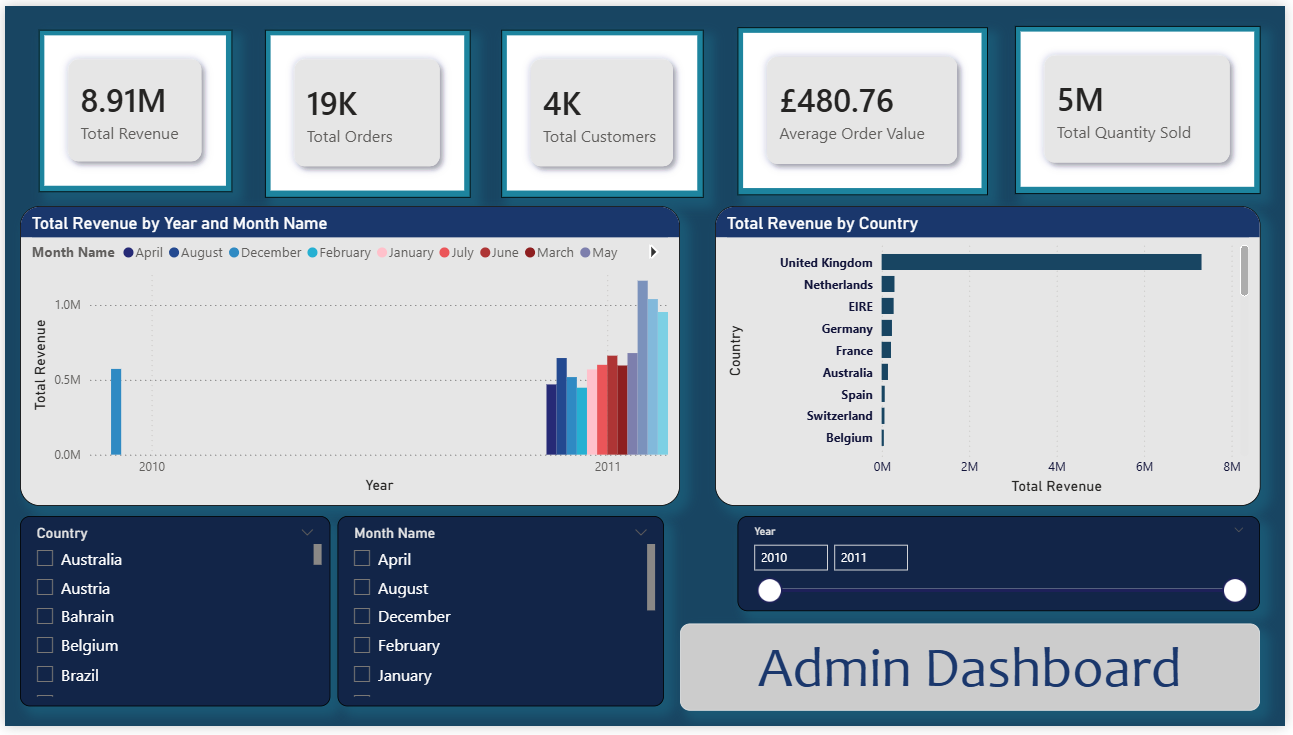

What the dashboard file says about the page in this screenshot:
{"tool":"powerbi","page":{"name":"Executive Dashboard","canvas":[1280,720],"ordinal":0},"visuals":[{"type":"cardVisual","fields":{"Data":["Measures (2).Total Revenue"]},"box":[33.3,23.3,193.3,162.2],"z":0},{"type":"cardVisual","fields":{"Data":["Measures (2).Total Orders"]},"box":[260,23.3,205.6,167.8],"z":1000},{"type":"cardVisual","fields":{"Data":["Measures (2).Total Customers"]},"box":[496.7,23.3,202.2,167.8],"z":2000},{"type":"cardVisual","fields":{"Data":["Measures (2).Average Order Value"]},"box":[732.2,21.1,250,167.8],"z":3000},{"type":"cardVisual","fields":{"Data":["Measures (2).Total Quantity Sold"]},"box":[1010,20,245.6,167.8],"z":4000},{"type":"lineClusteredColumnComboChart","fields":{"Category":["Online Retail.Year"],"Y":["Measure.Total Revenue"],"Series":["Online Retail.Month Name"]},"box":[15.6,200,660,300],"z":5000},{"type":"clusteredBarChart","fields":{"Category":["Online Retail.Country"],"Y":["Measure.Total Revenue"]},"box":[710,200,545.6,300],"z":6000},{"type":"slicer","fields":{"Values":["Online Retail.Country"]},"box":[15,510,310,190],"z":7000},{"type":"slicer","fields":{"Values":["Online Retail.Year"]},"box":[732.5,510,522.5,95],"z":8000},{"type":"slicer","fields":{"Values":["Online Retail.Month Name"]},"box":[332.5,510,326.2,190],"z":9000},{"type":"textbox","box":[675,617.5,580,87.5],"z":10000}]}

Visuals, with their boxes in screenshot pixels (x1, y1, x2, y2), scaled from the page's 1280x720 canvas onto the 1293x735 screenshot:
cardVisual - Measures (2).Total Revenue: x1=34 y1=24 x2=229 y2=189
cardVisual - Measures (2).Total Orders: x1=263 y1=24 x2=470 y2=195
cardVisual - Measures (2).Total Customers: x1=502 y1=24 x2=706 y2=195
cardVisual - Measures (2).Average Order Value: x1=740 y1=22 x2=992 y2=193
cardVisual - Measures (2).Total Quantity Sold: x1=1020 y1=20 x2=1268 y2=192
lineClusteredColumnComboChart - Online Retail.Year x Measure.Total Revenue: x1=16 y1=204 x2=682 y2=510
clusteredBarChart - Online Retail.Country x Measure.Total Revenue: x1=717 y1=204 x2=1268 y2=510
slicer - Online Retail.Country: x1=15 y1=521 x2=328 y2=715
slicer - Online Retail.Year: x1=740 y1=521 x2=1268 y2=618
slicer - Online Retail.Month Name: x1=336 y1=521 x2=665 y2=715
textbox: x1=682 y1=630 x2=1268 y2=720
